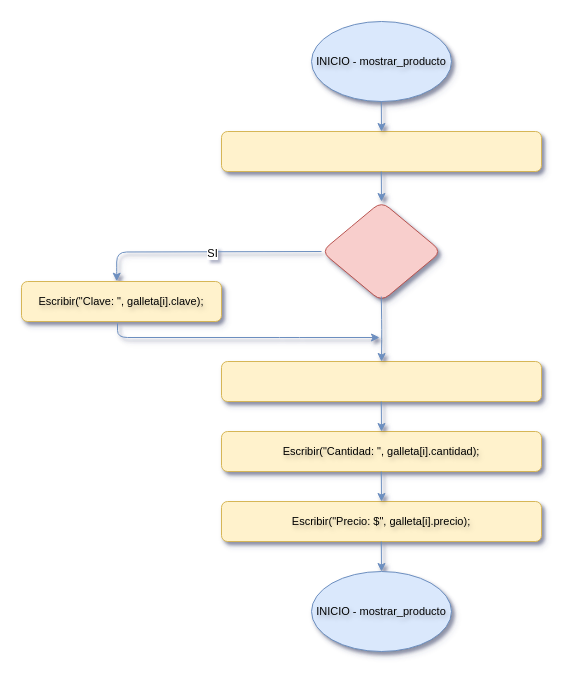
Some shapes in this 571 by 682 pixel diagram are drawn without their labels. The shapes that lost their labels are listed below. From the top down, each one's centre as x and y in pixels, then its label:
pixel 382 152: Escribir("Proveedor: ", galleta[i].proveedor);
pixel 382 252: galleta[i].clave != ""
pixel 382 382: Escribir("Nombre del producto: ", galleta[i].nombre);
